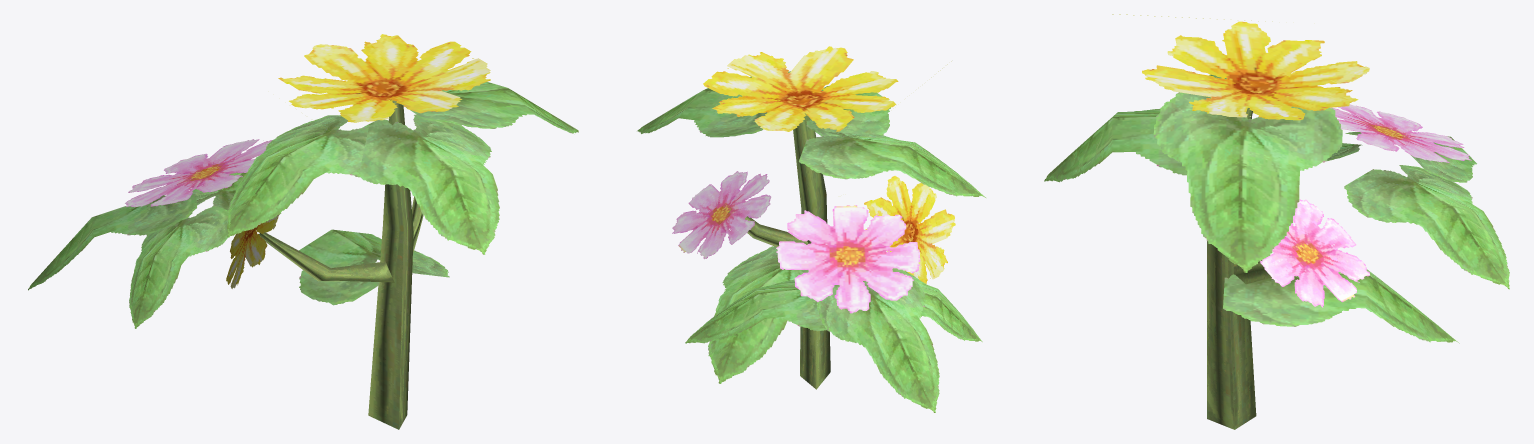
The model's file is nml-bd095.glb.
3 views of the same model, side by side, from view 1: azimuth 30°, elevation 25°; view 2: azimuth 150°, elevation 25°; view 3: azimuth 270°, elevation 25° (orthographic). The views are drawn at different scales.
Visible parts, largest first — view 1: geom_node_0; view 2: geom_node_0; view 3: geom_node_0.
Part boxes in pixels (left/top/right/bottom): geom_node_0: left=28, top=34, right=578, bottom=429; geom_node_0: left=637, top=46, right=985, bottom=412; geom_node_0: left=1044, top=14, right=1509, bottom=429.
Size of the model in its own units: 2.33 by 1.64 by 2.01.
1 material, 1 textured.
